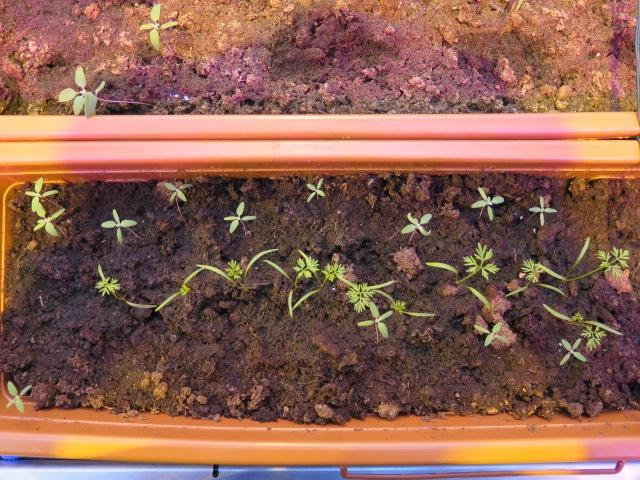weed: (136, 0, 180, 52), (98, 203, 140, 243), (467, 182, 505, 223), (220, 196, 259, 235), (3, 376, 35, 415), (524, 193, 558, 228), (396, 209, 434, 239), (162, 179, 194, 205), (301, 174, 327, 205)
